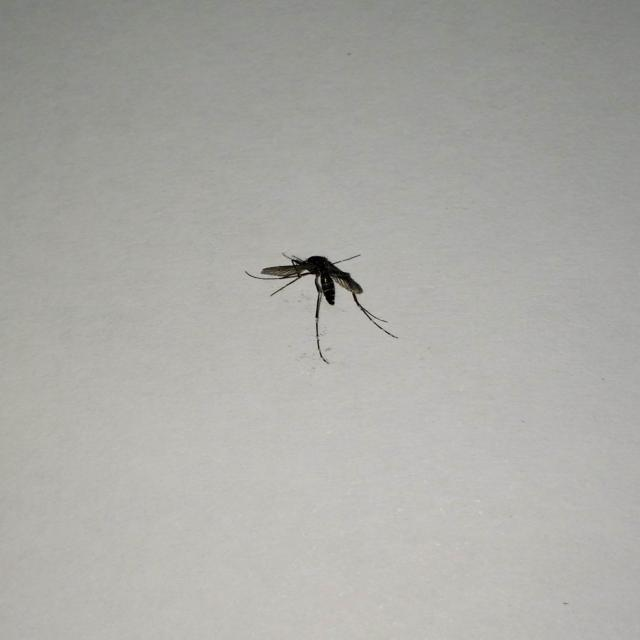albopictus: (238, 245, 405, 370)
